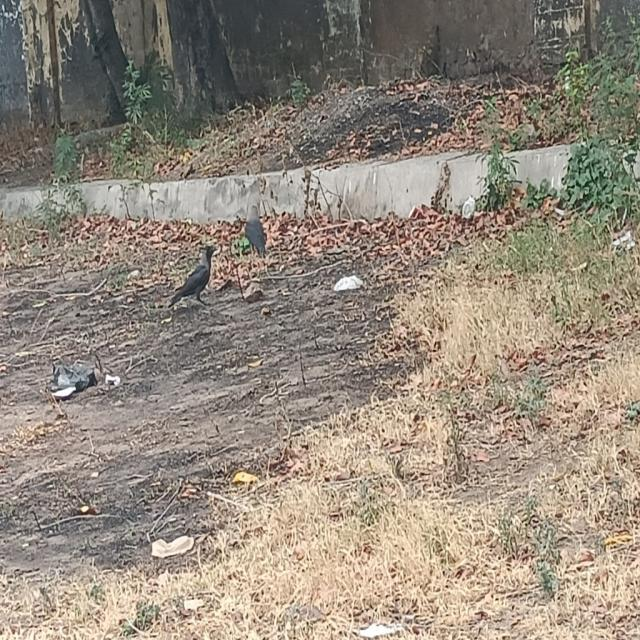bird: (165, 244, 219, 313), (242, 203, 268, 261)
